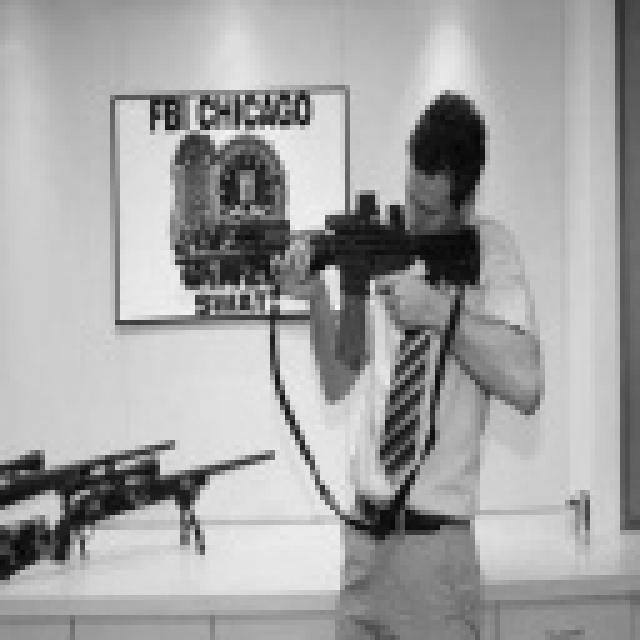Rifle: (157, 178, 530, 534), (0, 441, 293, 579)
